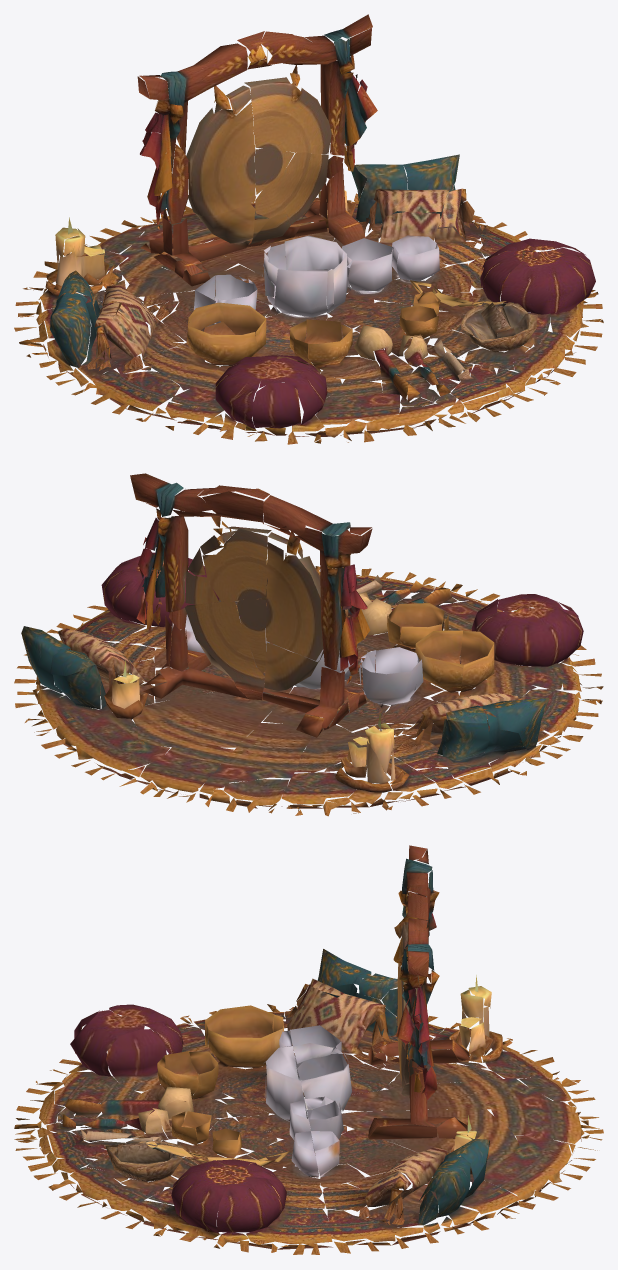
Rendered from soundbath.glb.
3 renders of one model, top to bottom at view 1: azimuth 30°, elevation 25°; view 2: azimuth 150°, elevation 25°; view 3: azimuth 270°, elevation 25°, orthographic.
Visible parts, largest first — view 1: tripo_node_d67cace9-c9f2-4c8b-af94-6f399dead91e; view 2: tripo_node_d67cace9-c9f2-4c8b-af94-6f399dead91e; view 3: tripo_node_d67cace9-c9f2-4c8b-af94-6f399dead91e.
Part boxes in pixels (x1,y1,x2,y2): tripo_node_d67cace9-c9f2-4c8b-af94-6f399dead91e: (14, 14, 603, 444); tripo_node_d67cace9-c9f2-4c8b-af94-6f399dead91e: (14, 473, 603, 816); tripo_node_d67cace9-c9f2-4c8b-af94-6f399dead91e: (14, 845, 603, 1254).
Bounding box in the file's own units: 2.54 × 1.2 × 2.53.
1 material, 1 textured.
